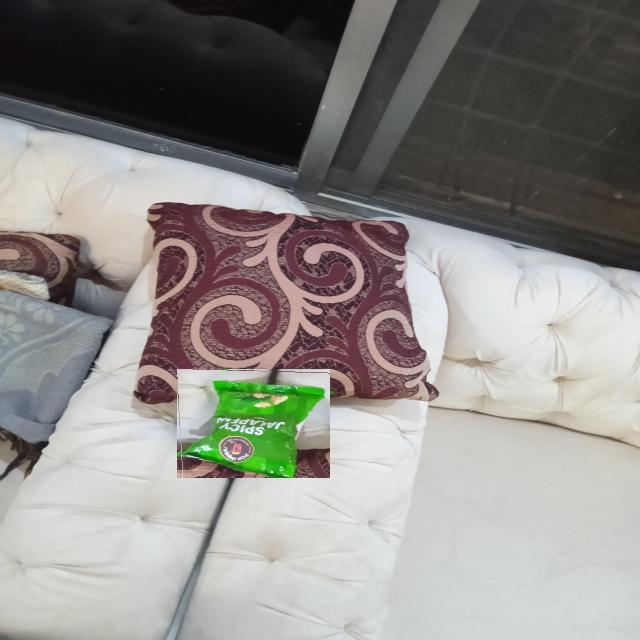Plastic: (177, 368, 331, 478)
